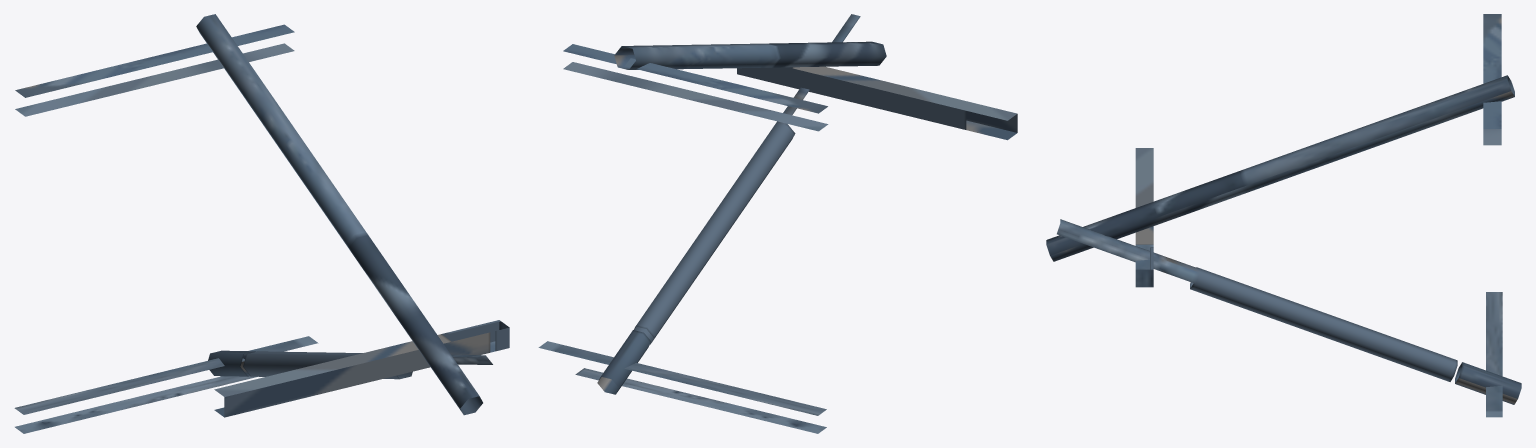
File: section-1.obj
3 views of the same model, side by side, from view 1: azimuth 30°, elevation 25°; view 2: azimuth 150°, elevation 25°; view 3: azimuth 270°, elevation 25° (orthographic). The views are drawn at different scales.
Bounding box in the file's own units: 0.945 × 1.12 × 1.51.
